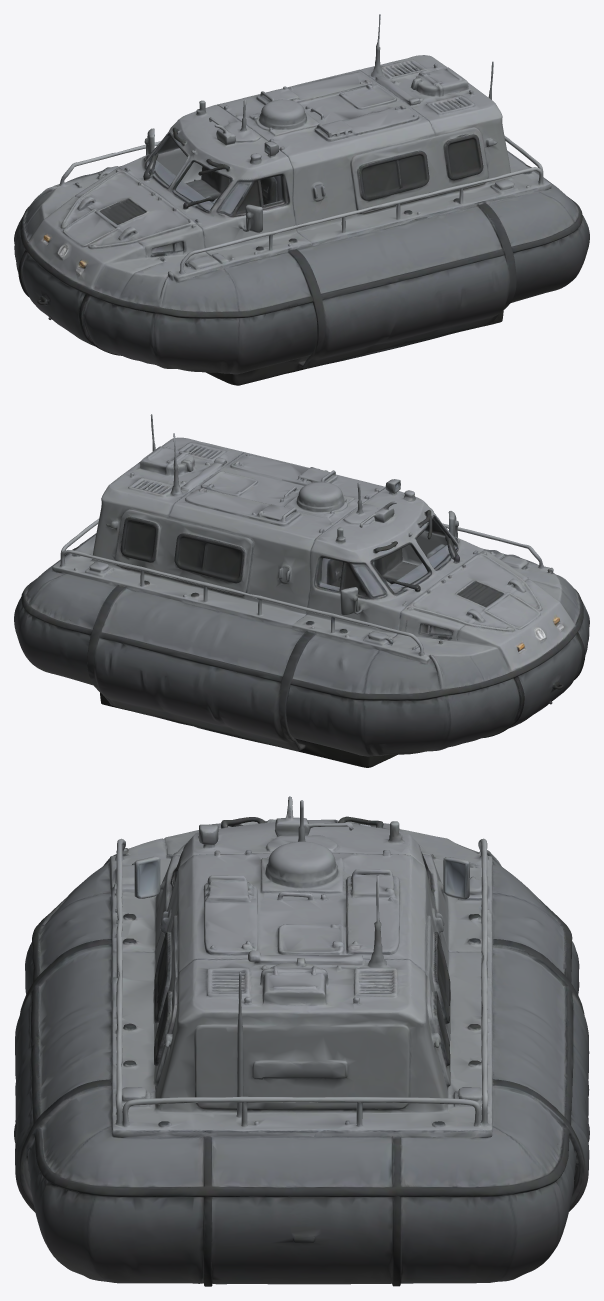
File: 099_military_hovercraft.glb
The picture shows the model from 3 angles, top to bottom: view 1: azimuth 30°, elevation 25°; view 2: azimuth 150°, elevation 25°; view 3: azimuth 270°, elevation 25°; orthographic projection. The views are drawn at different scales.
Parts seen in each view (by area): view 1: geometry_0; view 2: geometry_0; view 3: geometry_0.
Part boxes in pixels (box(x1,y1,x2,y2)): geometry_0: box(14, 14, 589, 385); geometry_0: box(14, 414, 589, 767); geometry_0: box(14, 796, 589, 1286).
Bounding box in the file's own units: 12 × 5.84 × 8.12.
Materials: 1 (1 with a texture image).
